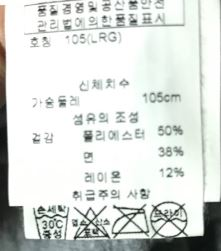do_not_dry_clean: (150, 200, 188, 238)
do_not_iron: (111, 202, 149, 237)
